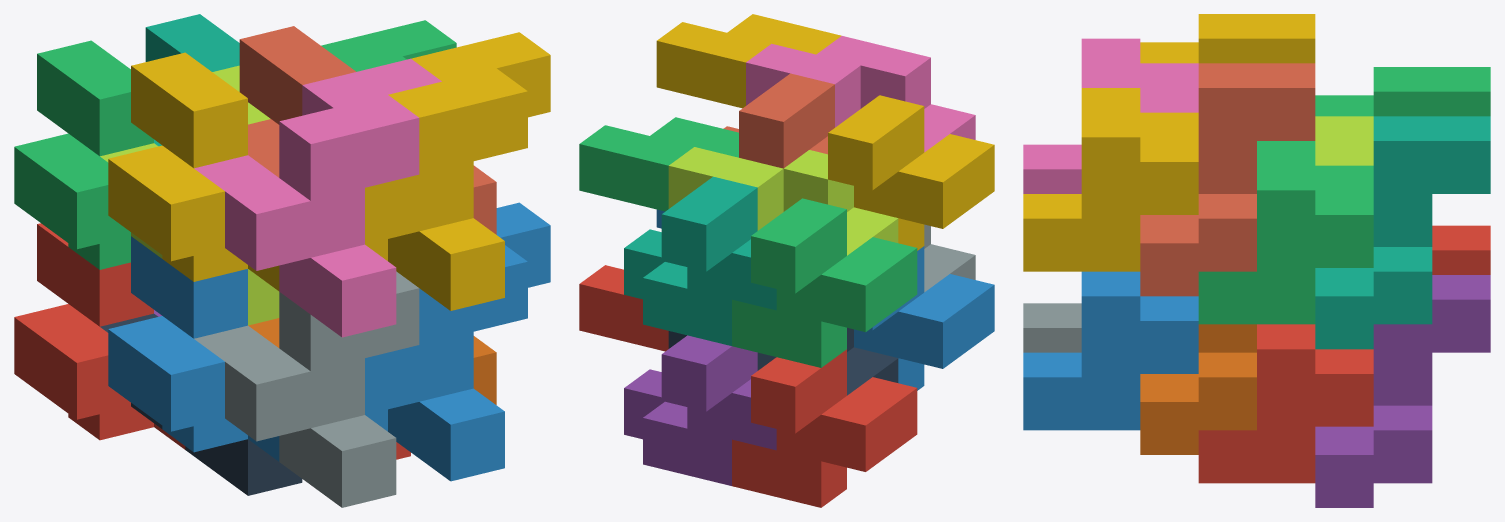
The model's file is tiling.obj.
3 views of the same model, side by side, from view 1: azimuth 30°, elevation 25°; view 2: azimuth 150°, elevation 25°; view 3: azimuth 270°, elevation 25° (orthographic). The views are drawn at different scales.
Visible parts, largest first — view 1: copy_2_domain_4, copy_2_domain_8, copy_2_domain_2, copy_1_domain_4, copy_2_domain_6, copy_1_domain_2, copy_1_domain_3, copy_1_domain_1, copy_1_domain_8, copy_2_domain_1, copy_2_domain_7, copy_1_domain_7 (+2 smaller); view 2: copy_1_domain_3, copy_1_domain_1, copy_1_domain_7, copy_1_domain_4, copy_1_domain_5, copy_2_domain_4, copy_1_domain_2, copy_2_domain_3, copy_2_domain_8, copy_2_domain_7, copy_1_domain_8, copy_2_domain_5 (+2 smaller); view 3: copy_1_domain_7, copy_1_domain_8, copy_2_domain_8, copy_2_domain_7, copy_1_domain_5, copy_2_domain_6, copy_2_domain_5, copy_1_domain_6, copy_2_domain_4, copy_1_domain_3, copy_1_domain_4, copy_1_domain_1 (+2 smaller).
Boxes of the visible parts, left/top/right/bottom form: copy_2_domain_4: left=194, top=58, right=441, bottom=337; copy_2_domain_8: left=365, top=32, right=550, bottom=310; copy_2_domain_2: left=194, top=271, right=419, bottom=507; copy_1_domain_4: left=108, top=52, right=387, bottom=291; copy_2_domain_6: left=365, top=202, right=550, bottom=481; copy_1_domain_2: left=108, top=236, right=387, bottom=461; copy_1_domain_3: left=14, top=40, right=153, bottom=269; copy_1_domain_1: left=14, top=223, right=185, bottom=449; copy_1_domain_8: left=239, top=26, right=496, bottom=234; copy_2_domain_1: left=100, top=313, right=302, bottom=495; copy_2_domain_7: left=321, top=20, right=456, bottom=71; copy_1_domain_7: left=145, top=14, right=239, bottom=146; copy_1_domain_3: left=732, top=198, right=917, bottom=367; copy_1_domain_1: left=732, top=349, right=917, bottom=507; copy_1_domain_7: left=624, top=176, right=776, bottom=345; copy_1_domain_4: left=828, top=95, right=994, bottom=250; copy_1_domain_5: left=624, top=335, right=776, bottom=485; copy_2_domain_4: left=746, top=36, right=975, bottom=152; copy_1_domain_2: left=854, top=246, right=994, bottom=390; copy_2_domain_3: left=668, top=147, right=898, bottom=255; copy_2_domain_8: left=656, top=14, right=841, bottom=108; copy_2_domain_7: left=579, top=117, right=738, bottom=211; copy_1_domain_8: left=723, top=73, right=834, bottom=168; copy_2_domain_5: left=579, top=265, right=668, bottom=351; copy_1_domain_7: left=1315, top=116, right=1490, bottom=349; copy_1_domain_8: left=1140, top=63, right=1315, bottom=296; copy_2_domain_8: left=1023, top=88, right=1198, bottom=271; copy_2_domain_7: left=1198, top=141, right=1373, bottom=324; copy_1_domain_5: left=1315, top=275, right=1490, bottom=507; copy_2_domain_6: left=1023, top=271, right=1198, bottom=430; copy_2_domain_5: left=1198, top=324, right=1373, bottom=483; copy_1_domain_6: left=1140, top=324, right=1256, bottom=454; copy_2_domain_4: left=1023, top=38, right=1198, bottom=193; copy_1_domain_3: left=1315, top=67, right=1490, bottom=116; copy_1_domain_4: left=1140, top=14, right=1315, bottom=63; copy_1_domain_1: left=1432, top=225, right=1490, bottom=274.
Size of the model in its own units: 7 by 7 by 8.
